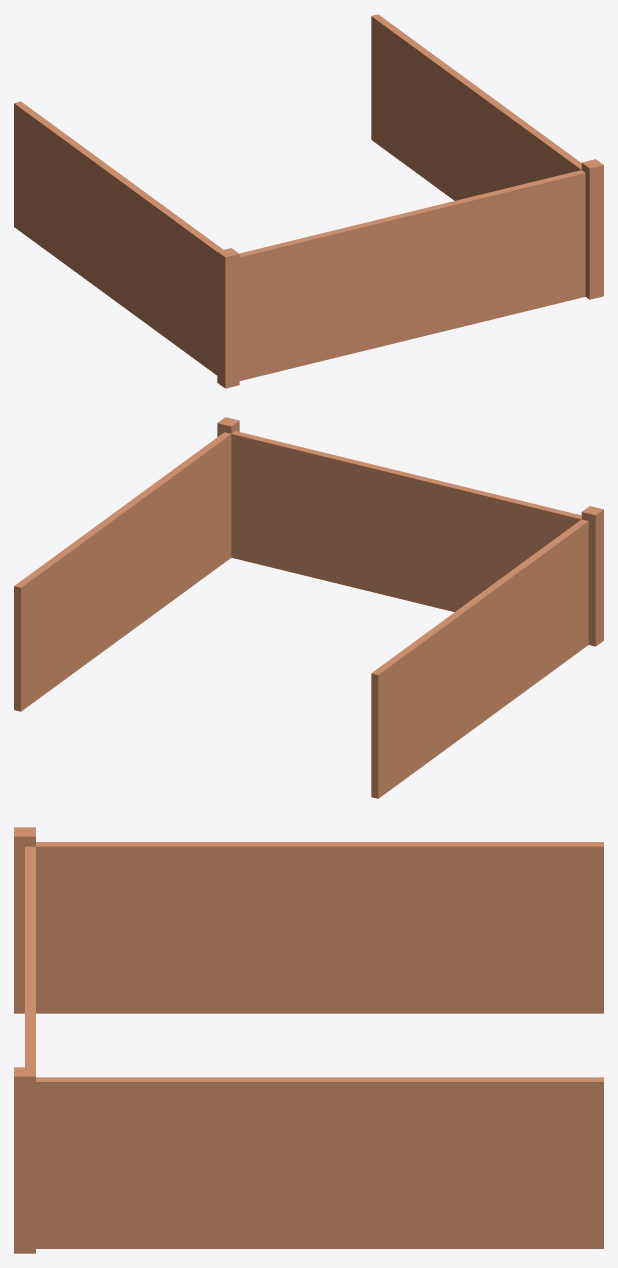
File: fence_medium.fbx
3 views of the same model, one above another, from view 1: azimuth 30°, elevation 25°; view 2: azimuth 150°, elevation 25°; view 3: azimuth 270°, elevation 25° (orthographic). The views are drawn at different scales.
Parts seen in each view (by area): view 1: fence_medium; view 2: fence_medium; view 3: fence_medium.
Part boxes in pixels (x1=…): fence_medium: x1=14, y1=14, x2=603, y2=388; fence_medium: x1=14, y1=417, x2=603, y2=798; fence_medium: x1=14, y1=827, x2=603, y2=1253.
Bounding box in the file's own units: 8 × 2.65 × 8.
